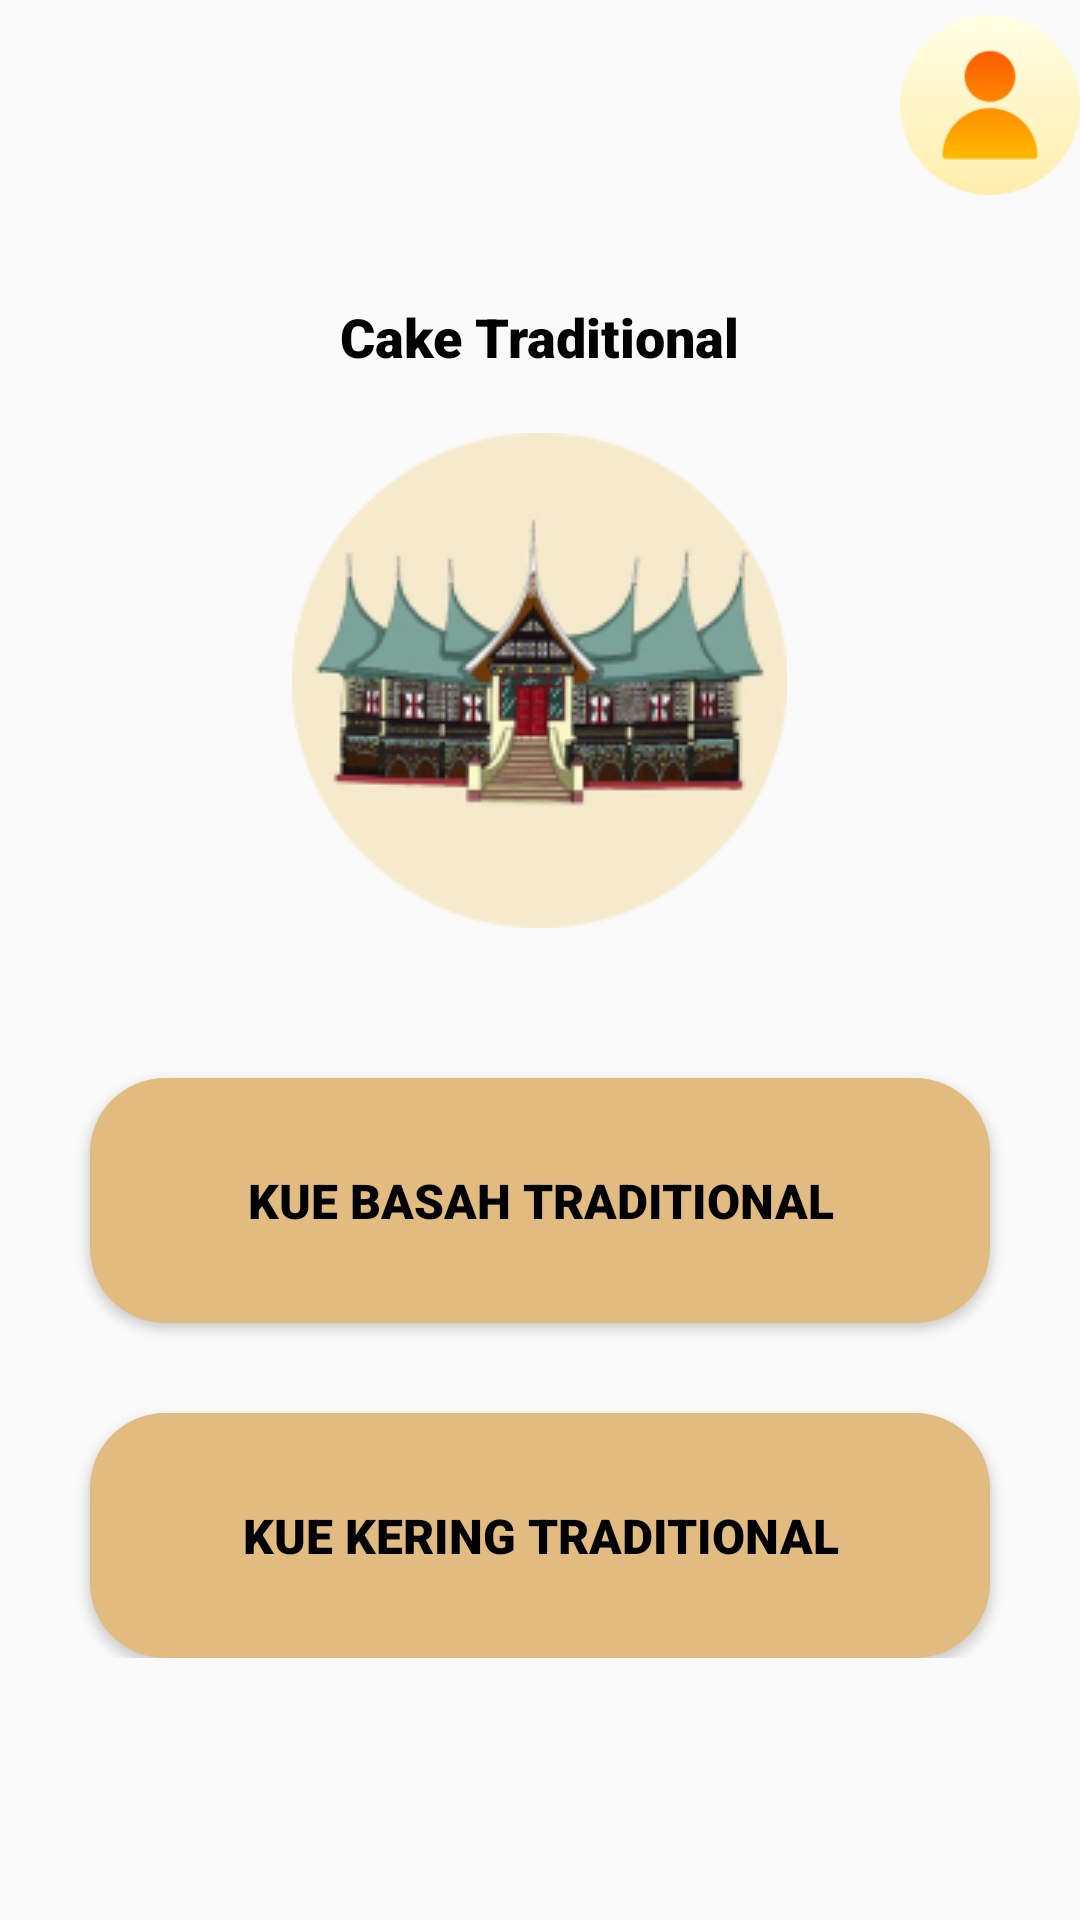

Where icons sit on this 1080px x 1920px app screen, as (x1, y1, x2, y2):
profile: (900, 26, 1080, 195)
